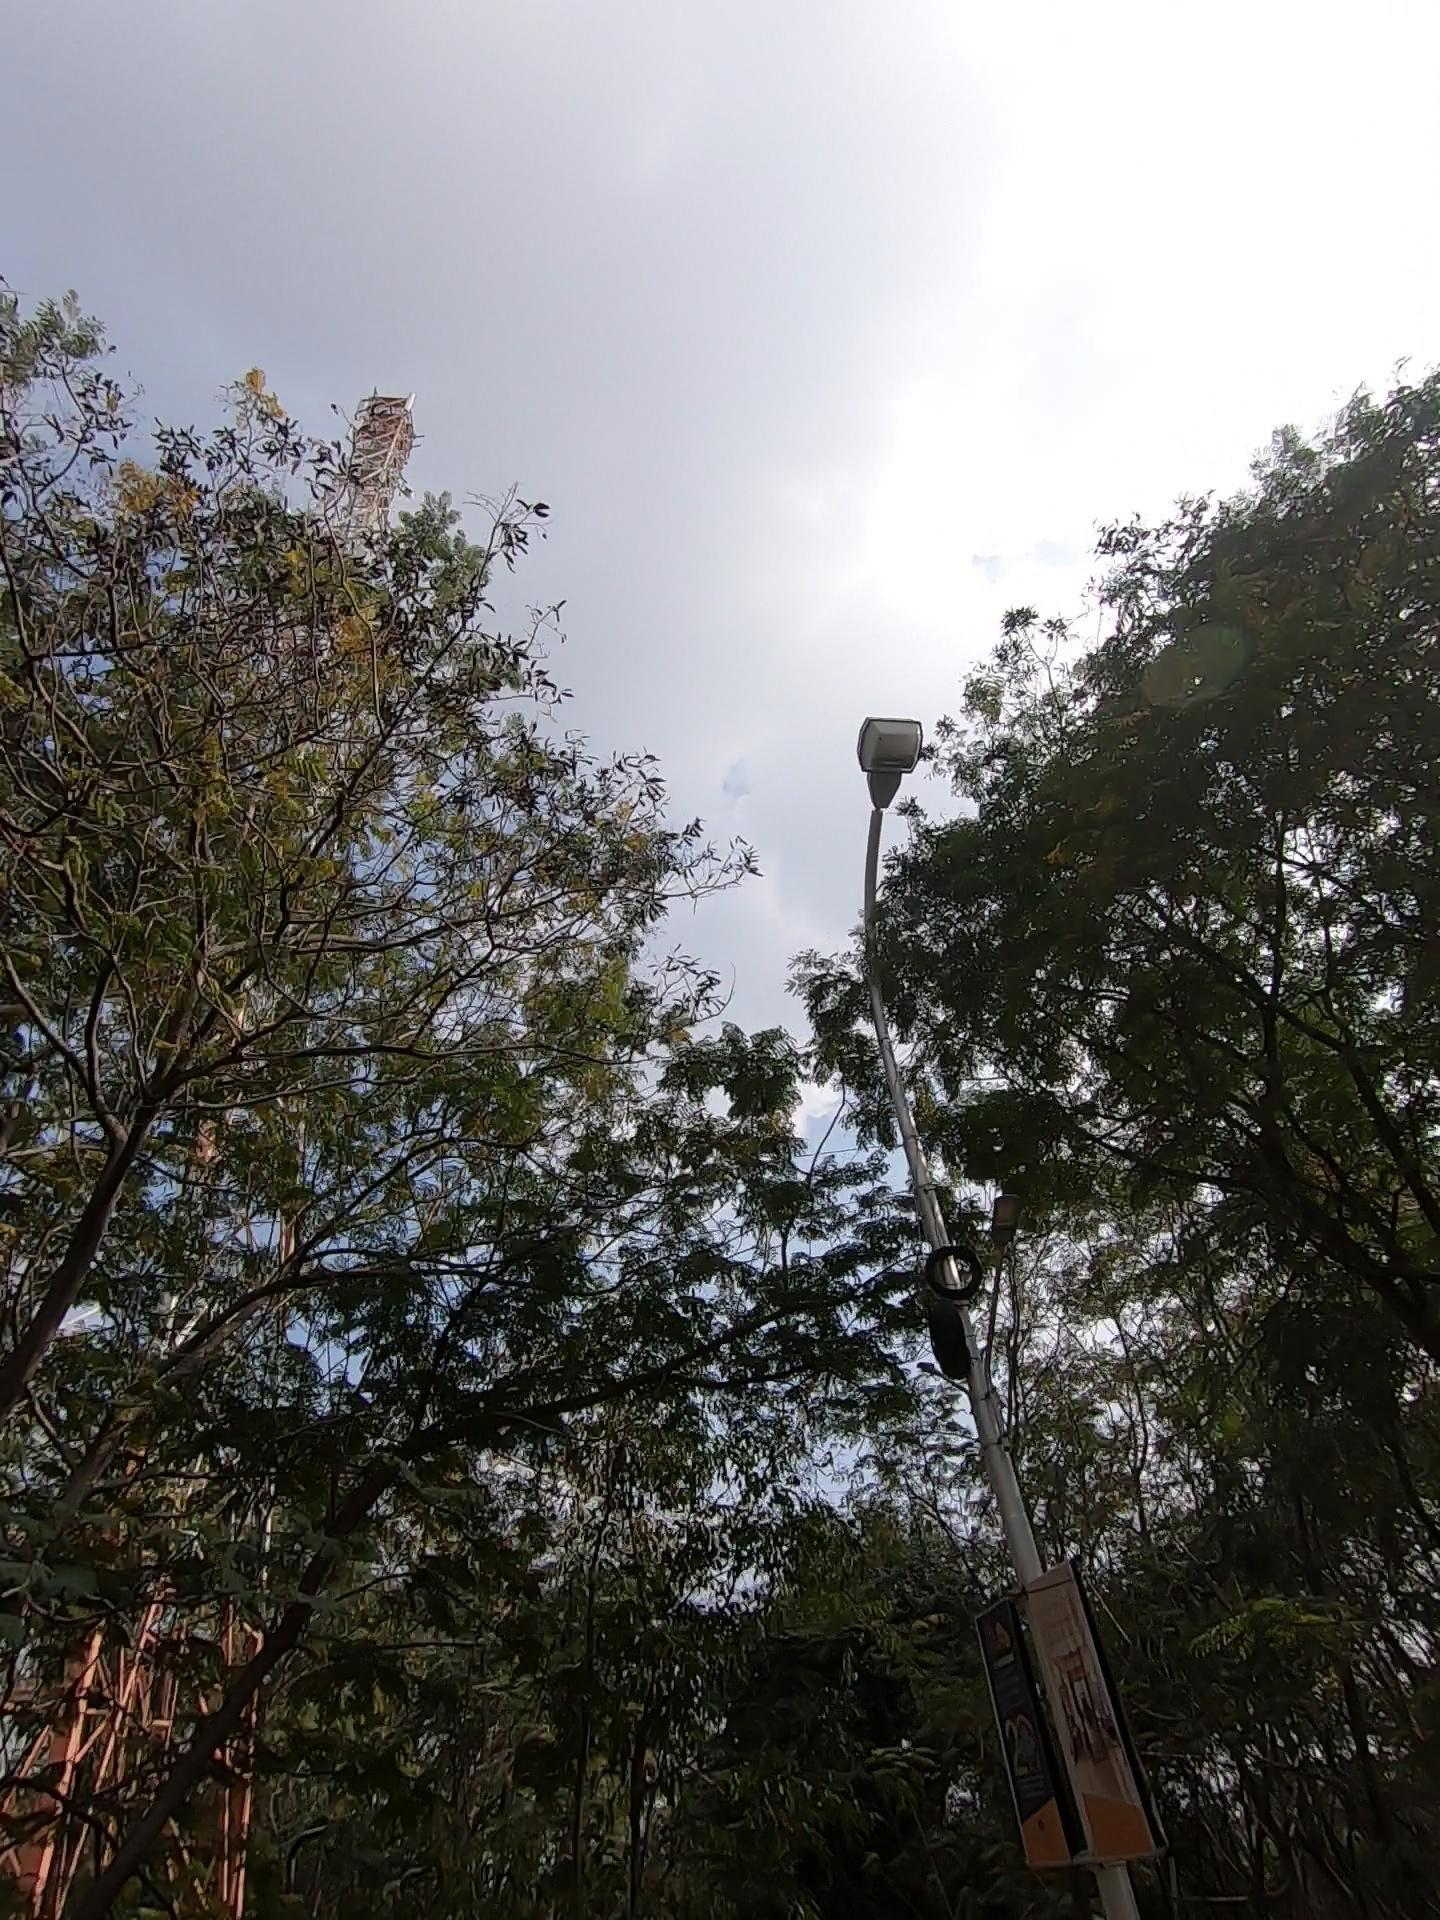off: (820, 621, 976, 1111)
